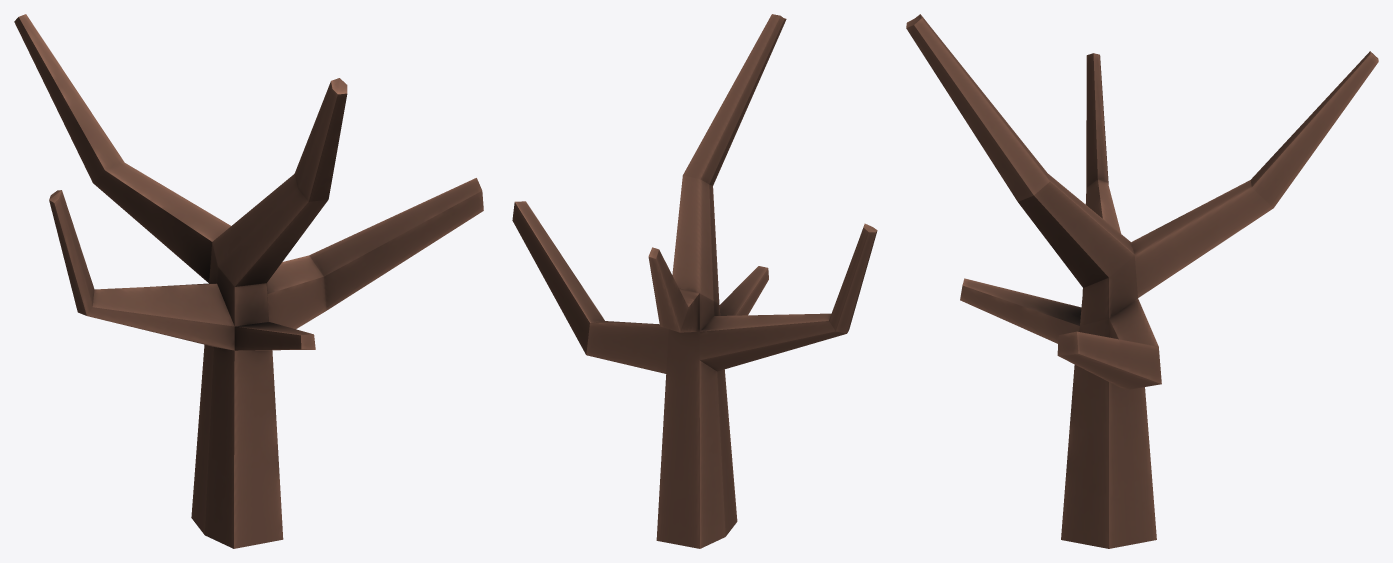
File: Tree_7.fbx
3 views of the same model, side by side, from view 1: azimuth 30°, elevation 25°; view 2: azimuth 150°, elevation 25°; view 3: azimuth 270°, elevation 25° (orthographic). The views are drawn at different scales.
Visible parts, largest first — view 1: Tree_7; view 2: Tree_7; view 3: Tree_7.
Part boxes in pixels (x1=…): Tree_7: x1=14, y1=14, x2=483, y2=548; Tree_7: x1=512, y1=14, x2=877, y2=548; Tree_7: x1=906, y1=14, x2=1378, y2=548.
Size of the model in its own units: 33.72 by 39.48 by 32.83.
